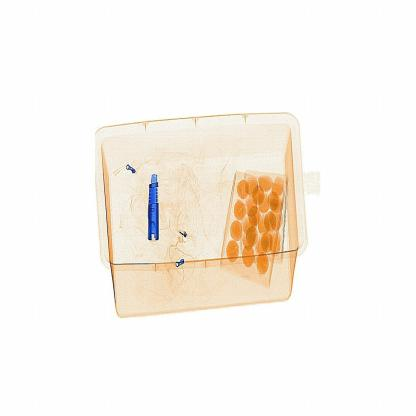pliers: (138, 162, 176, 256)
